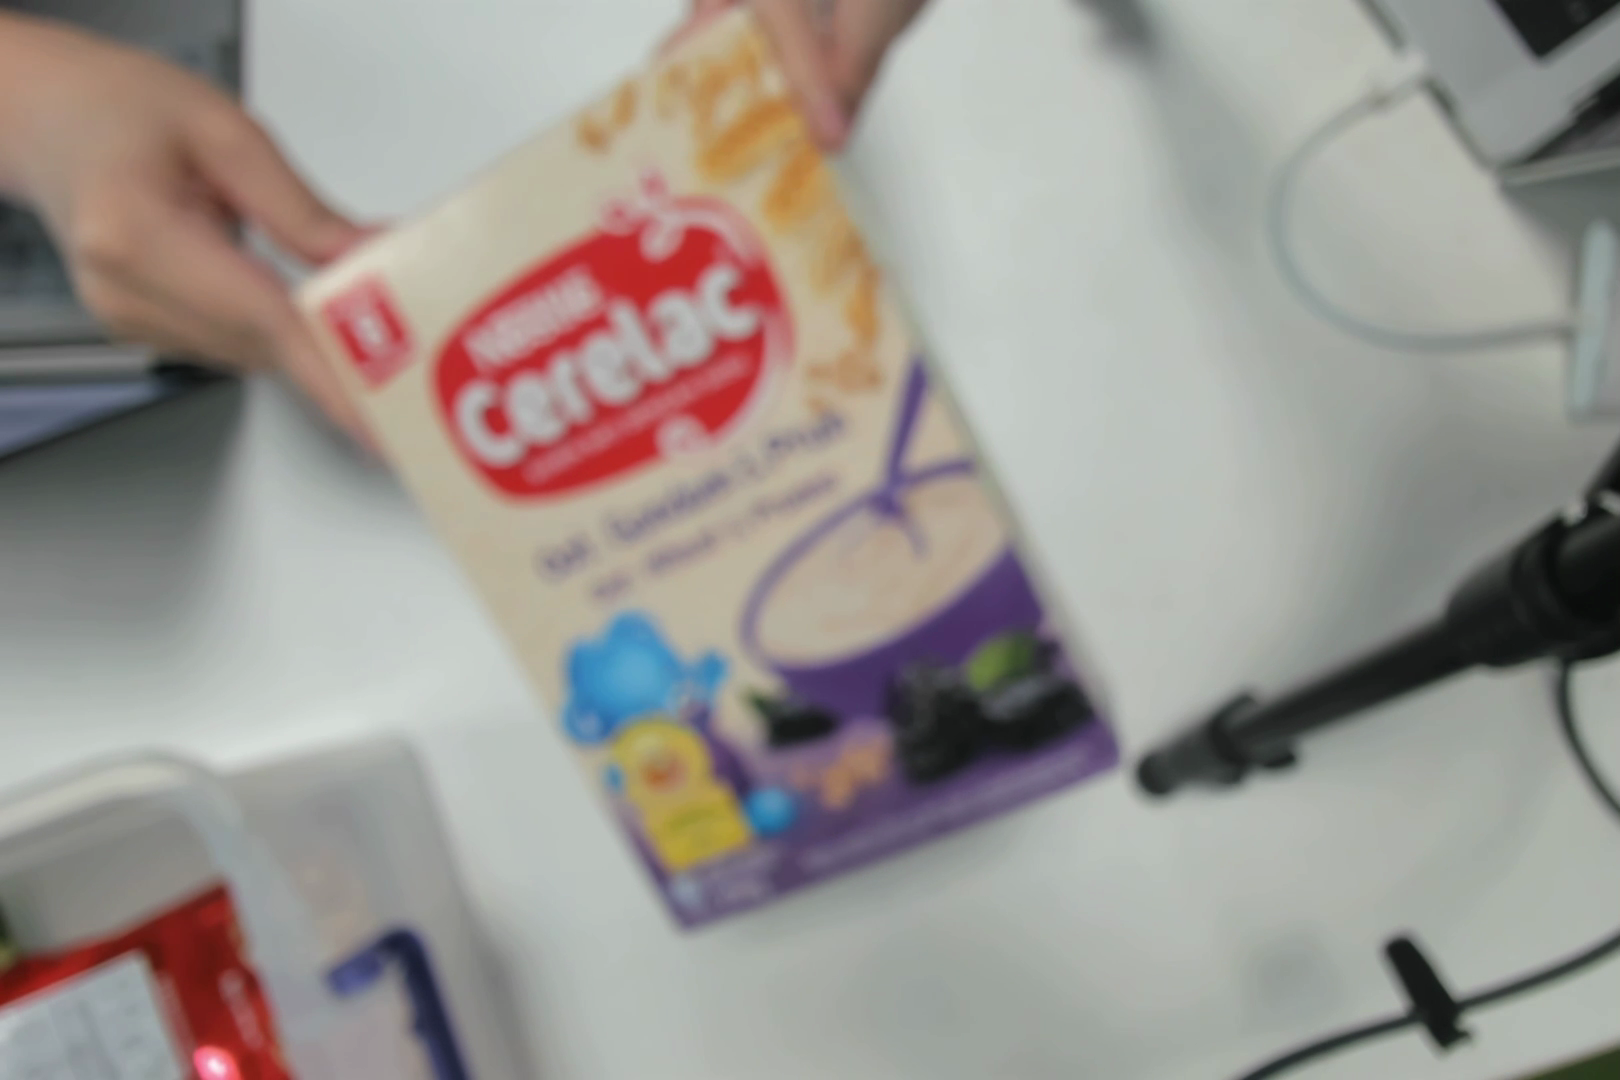d: (318, 250, 1098, 918)
